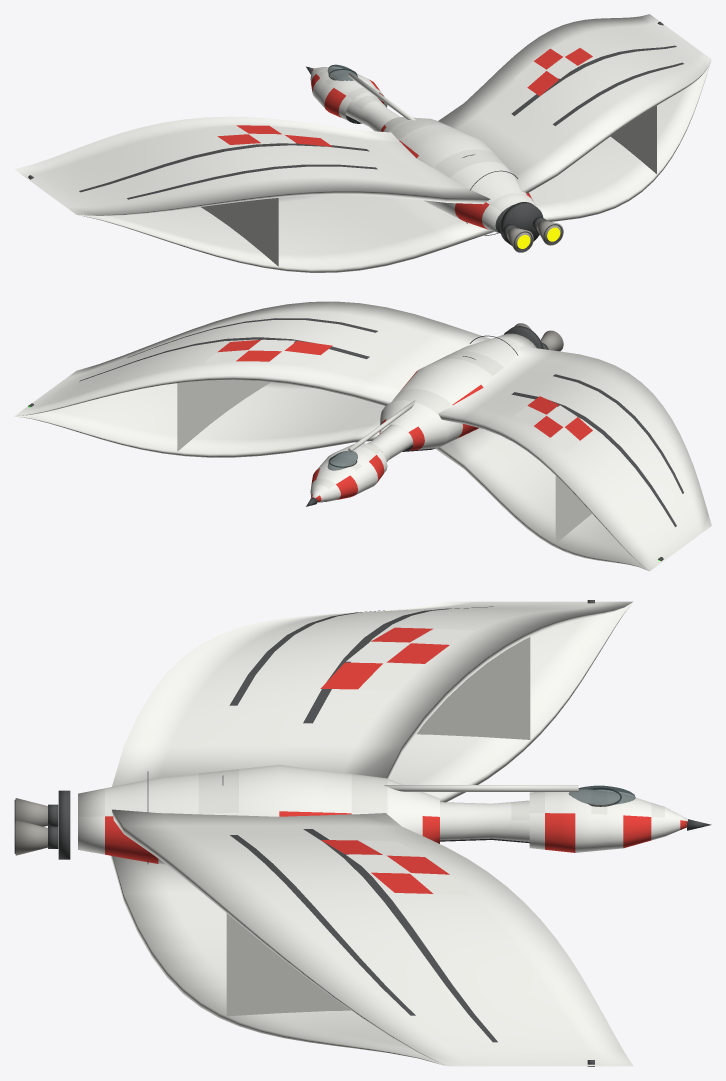
The model's file is Ship_Talonhunter_269536.glb.
3 views of the same model, one above another, from view 1: azimuth 30°, elevation 25°; view 2: azimuth 150°, elevation 25°; view 3: azimuth 270°, elevation 25° (orthographic). The views are drawn at different scales.
Visible parts, largest first — view 1: WingUpper_Left_ForwardSweptCrescentPlate, WingUpper_Right_ForwardSweptCrescentPlate, WingLower_Right_ForwardSweptCrescentPlate.001, WingLower_Right_ForwardSweptCrescentPlate, ReactorBody_AftOvalCore, WingMidRib_Left_OpenGapSupportStrut, CommandHead_BeakedForwardPod, WingMidRib_Right_OpenGapSupportStrut, CommandNeck_NarrowForwardSpine, EngineDeck_AftCompactMountPlate, WingPanelLine_Left_Upper_PrimaryCurvedSpar, WingPanelLine_Left_Upper_RearCurvedSpar (+2 smaller); view 2: WingUpper_Left_ForwardSweptCrescentPlate, WingUpper_Right_ForwardSweptCrescentPlate, WingLower_Right_ForwardSweptCrescentPlate, WingLower_Right_ForwardSweptCrescentPlate.001, ReactorBody_AftOvalCore, WingMidRib_Right_OpenGapSupportStrut, CommandHead_BeakedForwardPod, WingMidRib_Left_OpenGapSupportStrut, CommandNeck_NarrowForwardSpine, WingPanelLine_Left_Upper_PrimaryCurvedSpar, WingPanelLine_Right_Upper_PrimaryCurvedSpar, WingPanelLine_Left_Upper_RearCurvedSpar (+4 smaller); view 3: WingUpper_Right_ForwardSweptCrescentPlate, WingUpper_Left_ForwardSweptCrescentPlate, ReactorBody_AftOvalCore, WingLower_Right_ForwardSweptCrescentPlate, WingLower_Right_ForwardSweptCrescentPlate.001, CommandHead_BeakedForwardPod, WingMidRib_Left_OpenGapSupportStrut, WingMidRib_Right_OpenGapSupportStrut, CommandNeck_NarrowForwardSpine, WingPanelLine_Right_Upper_PrimaryCurvedSpar, WingPanelLine_Right_Upper_RearCurvedSpar, DorsalSpine_CommandRidge (+12 smaller).
Boxes of the visible parts, box(x1,y1,x2,y2) form: WingUpper_Left_ForwardSweptCrescentPlate: box(14, 116, 490, 215); WingUpper_Right_ForwardSweptCrescentPlate: box(438, 14, 711, 193); WingLower_Right_ForwardSweptCrescentPlate.001: box(78, 195, 493, 272); WingLower_Right_ForwardSweptCrescentPlate: box(529, 61, 711, 221); ReactorBody_AftOvalCore: box(380, 117, 535, 233); WingMidRib_Left_OpenGapSupportStrut: box(201, 198, 278, 266); CommandHead_BeakedForwardPod: box(310, 67, 387, 123); WingMidRib_Right_OpenGapSupportStrut: box(610, 105, 656, 173); CommandNeck_NarrowForwardSpine: box(345, 91, 399, 131); EngineDeck_AftCompactMountPlate: box(500, 202, 543, 245); WingPanelLine_Left_Upper_PrimaryCurvedSpar: box(79, 143, 369, 192); WingPanelLine_Left_Upper_RearCurvedSpar: box(127, 164, 377, 199); WingUpper_Left_ForwardSweptCrescentPlate: box(438, 346, 711, 571); WingUpper_Right_ForwardSweptCrescentPlate: box(14, 301, 490, 416); WingLower_Right_ForwardSweptCrescentPlate: box(15, 382, 384, 457); WingLower_Right_ForwardSweptCrescentPlate.001: box(435, 428, 648, 570); ReactorBody_AftOvalCore: box(379, 333, 536, 451); WingMidRib_Right_OpenGapSupportStrut: box(177, 379, 270, 451); CommandHead_BeakedForwardPod: box(310, 443, 387, 502); WingMidRib_Left_OpenGapSupportStrut: box(555, 476, 591, 543); CommandNeck_NarrowForwardSpine: box(367, 424, 413, 461); WingPanelLine_Left_Upper_PrimaryCurvedSpar: box(511, 392, 676, 526); WingPanelLine_Right_Upper_PrimaryCurvedSpar: box(79, 337, 369, 381); WingPanelLine_Left_Upper_RearCurvedSpar: box(553, 374, 683, 493); WingUpper_Right_ForwardSweptCrescentPlate: box(112, 809, 633, 1066); WingUpper_Left_ForwardSweptCrescentPlate: box(112, 601, 633, 786); ReactorBody_AftOvalCore: box(78, 764, 439, 864); WingLower_Right_ForwardSweptCrescentPlate: box(110, 855, 445, 1065); WingLower_Right_ForwardSweptCrescentPlate.001: box(390, 602, 632, 802); CommandHead_BeakedForwardPod: box(529, 788, 687, 852); WingMidRib_Left_OpenGapSupportStrut: box(416, 637, 530, 739); WingMidRib_Right_OpenGapSupportStrut: box(226, 912, 350, 1017); CommandNeck_NarrowForwardSpine: box(440, 800, 529, 843); WingPanelLine_Right_Upper_PrimaryCurvedSpar: box(303, 829, 497, 1042); WingPanelLine_Right_Upper_RearCurvedSpar: box(230, 835, 415, 1015); DorsalSpine_CommandRidge: box(384, 785, 578, 791).
Size of the model in its own units: 11.31 by 1.47 by 7.18.
